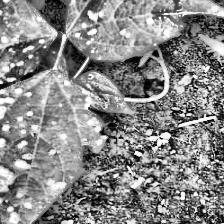Bean Rust: (0, 71, 105, 223), (67, 0, 224, 58), (0, 0, 50, 103)
